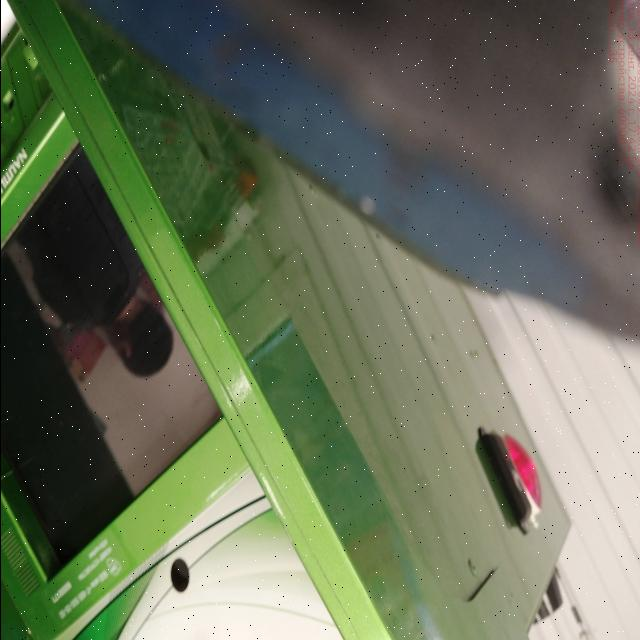bank: (1, 0, 570, 640)
